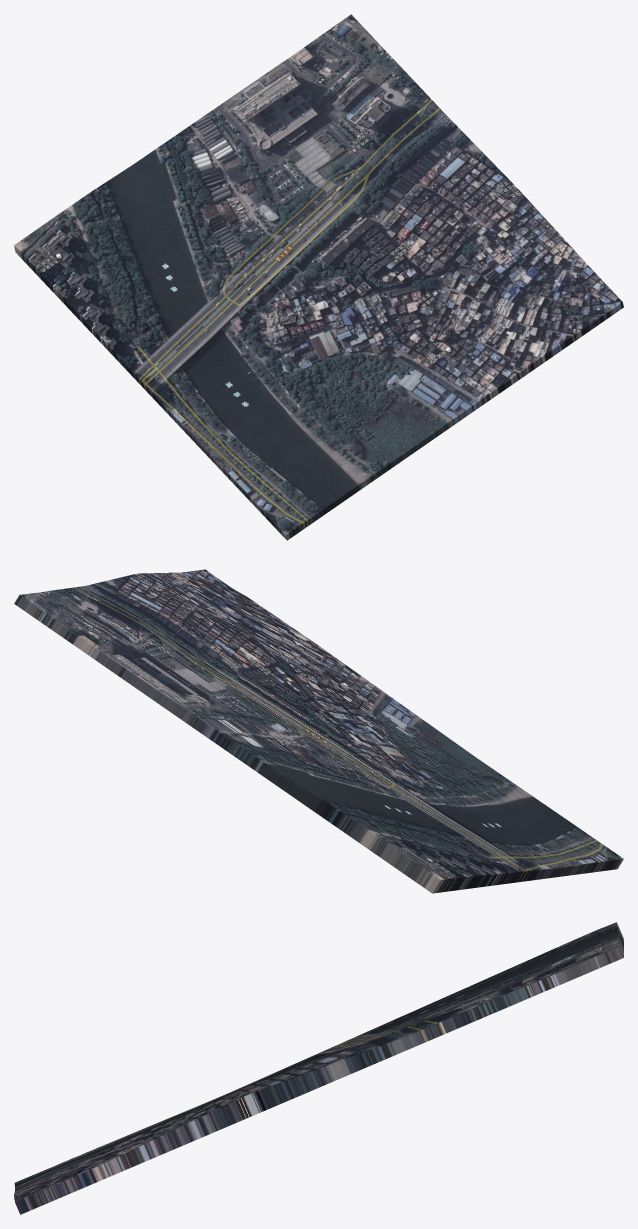
3 views of the same model, one above another, from view 1: azimuth 30°, elevation 25°; view 2: azimuth 150°, elevation 25°; view 3: azimuth 270°, elevation 25° (orthographic). The views are drawn at different scales.
Visible parts, largest first — view 1: 0_19_2; view 2: 0_19_2; view 3: 0_19_2.
Part boxes in pixels (x1=…): 0_19_2: x1=14, y1=14, x2=623, y2=540; 0_19_2: x1=14, y1=569, x2=623, y2=893; 0_19_2: x1=14, y1=922, x2=623, y2=1214.
Bounding box in the file's own units: 598 × 437 × 548.
Materials: 1 (1 with a texture image).
